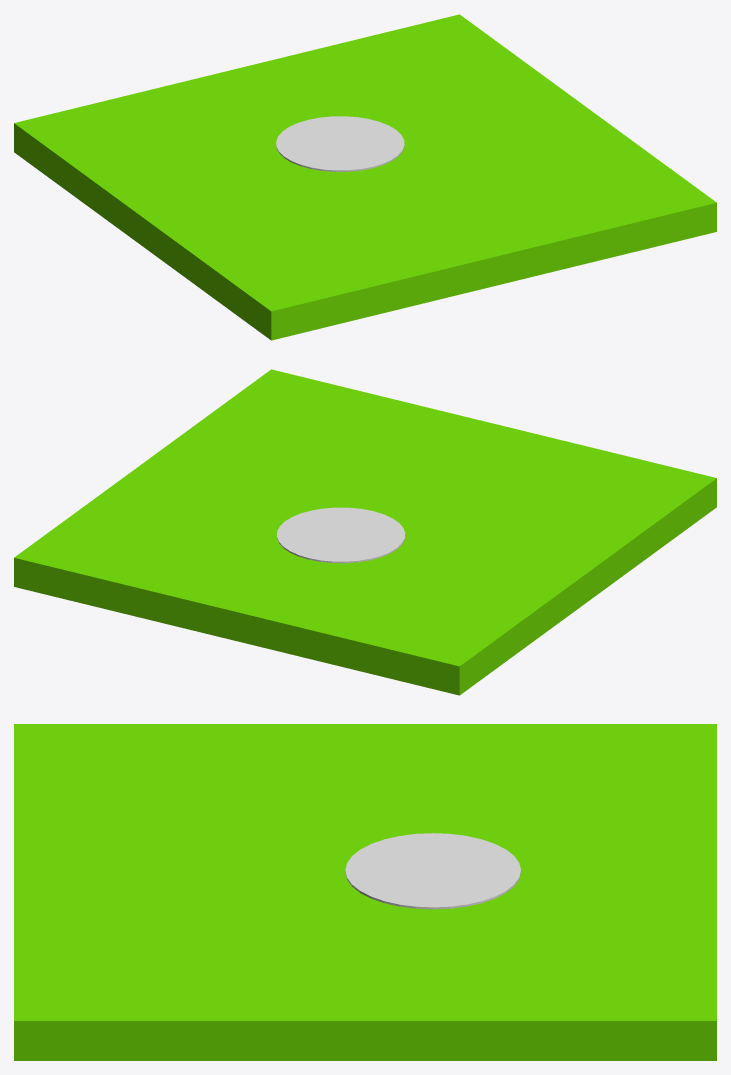
The model's file is BlockTypeTee-2.fbx.
The picture shows the model from 3 angles, top to bottom: view 1: azimuth 30°, elevation 25°; view 2: azimuth 150°, elevation 25°; view 3: azimuth 270°, elevation 25°; orthographic projection. The views are drawn at different scales.
Visible parts, largest first — view 1: Cube, Cylinder; view 2: Cube, Cylinder; view 3: Cube, Cylinder.
Part boxes in pixels (box(x1,y1,x2,y2)): Cube: box(14, 14, 716, 340); Cylinder: box(276, 116, 404, 171); Cube: box(14, 369, 716, 695); Cylinder: box(277, 507, 405, 563); Cube: box(14, 724, 716, 1060); Cylinder: box(345, 833, 520, 909).
Bounding box in the file's own units: 800 × 52.62 × 800.
